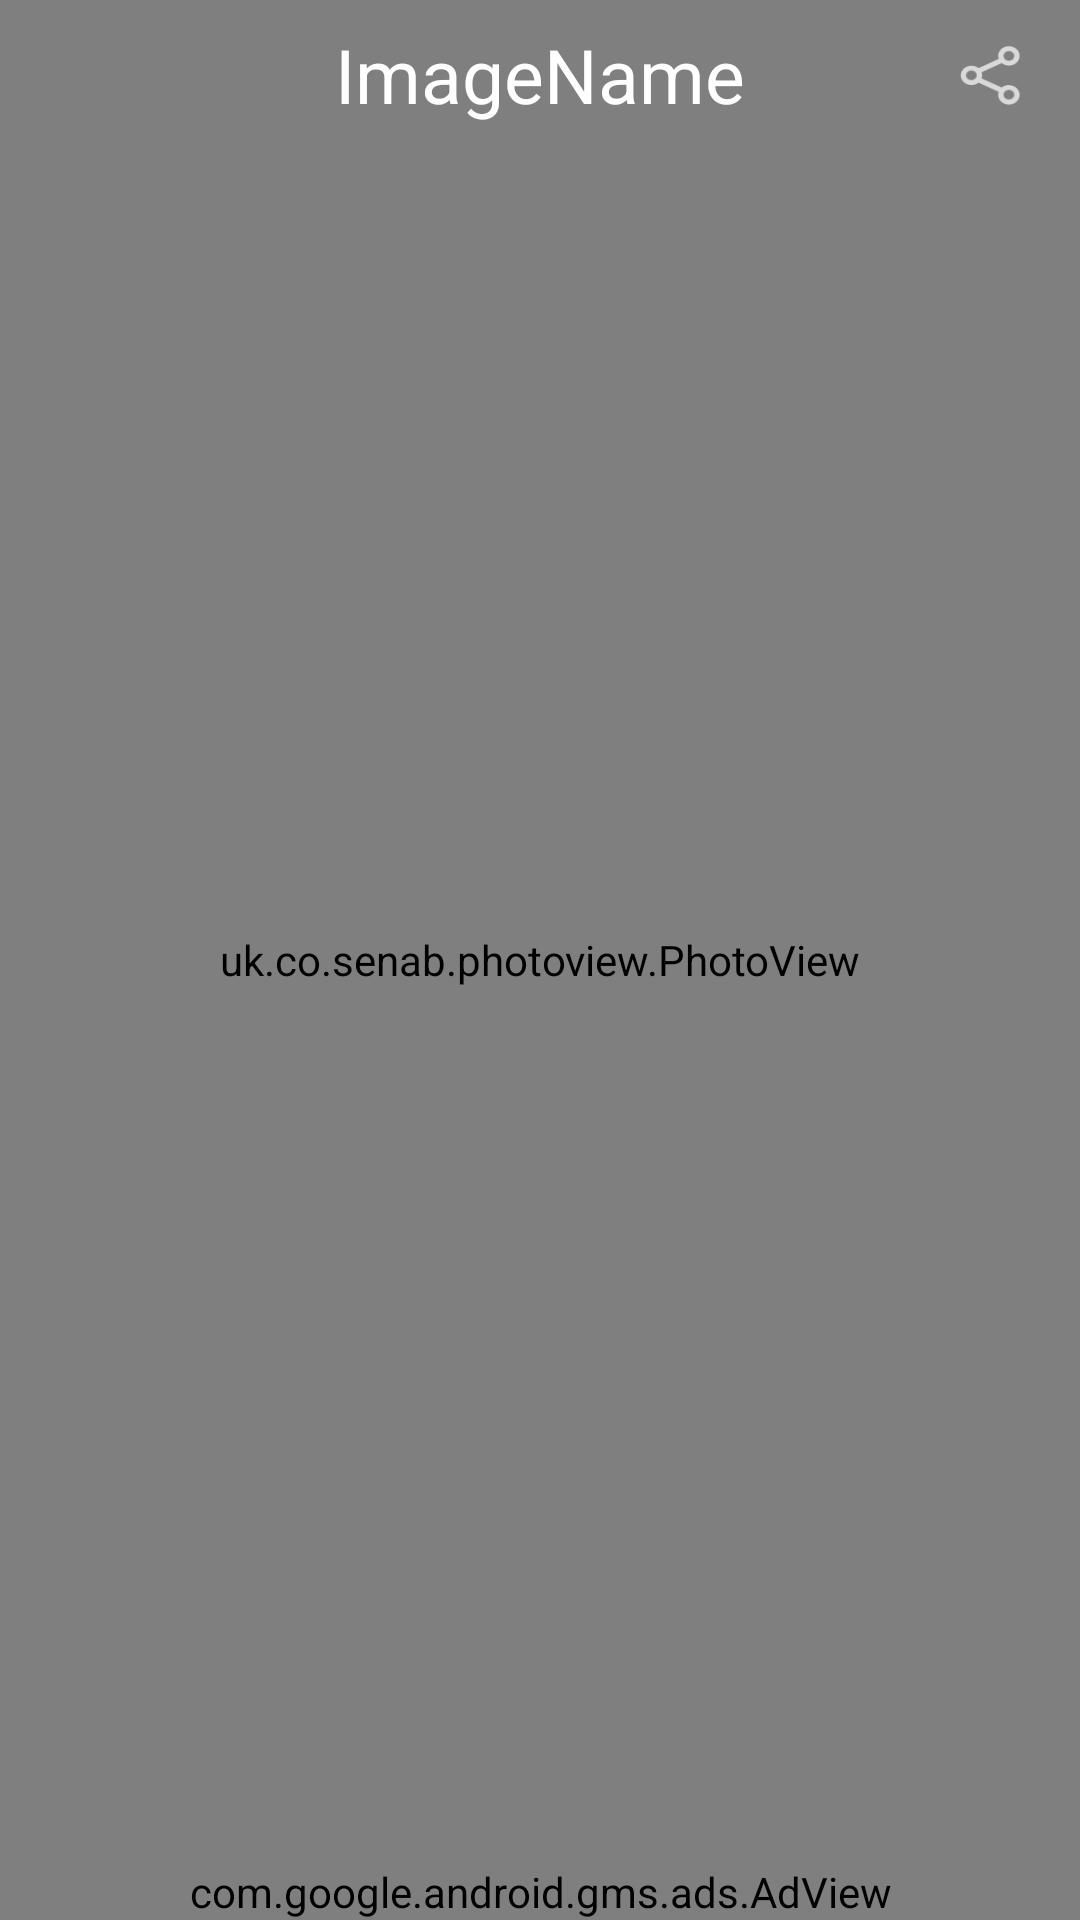

Named icons in this screenshot (1080px×1920px) and their centers, (x,y):
share: (990,75)
